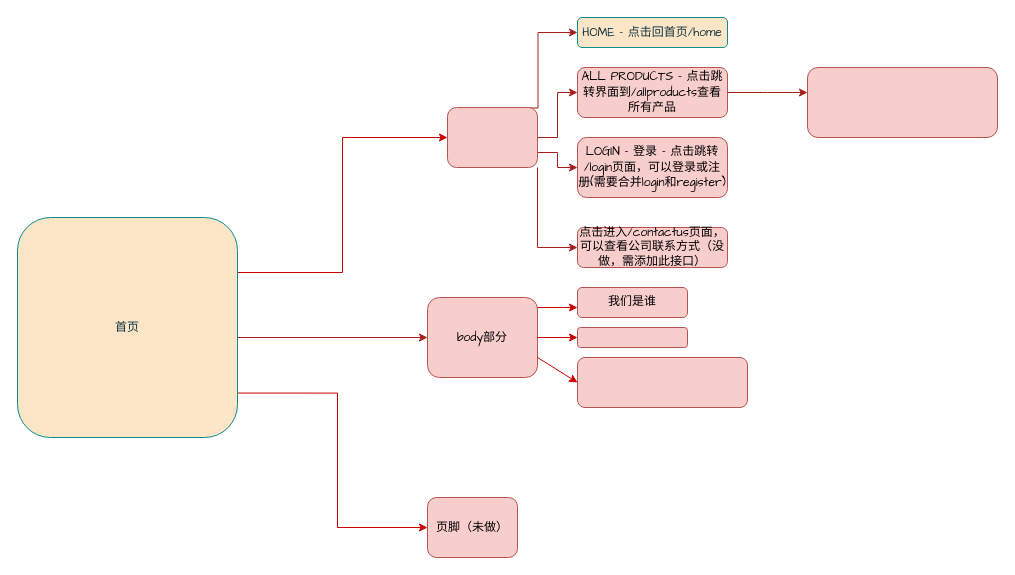
The diagram is 1015 pixels wide and 575 high, and some of its shapes have lost their labels. The centre of each missing label's shape, as x and y in pixels:
nav页眉 (需添加contact us): (492,137)
我们干什么: (632,337)
改一下，编程PRODUCTS，点击进入/products页面，出现动物分类名片，底下列出所有产品: (902,102)
浏览产品(点击展开all products，用户在nav处也可点击products，看分类): (662,382)
